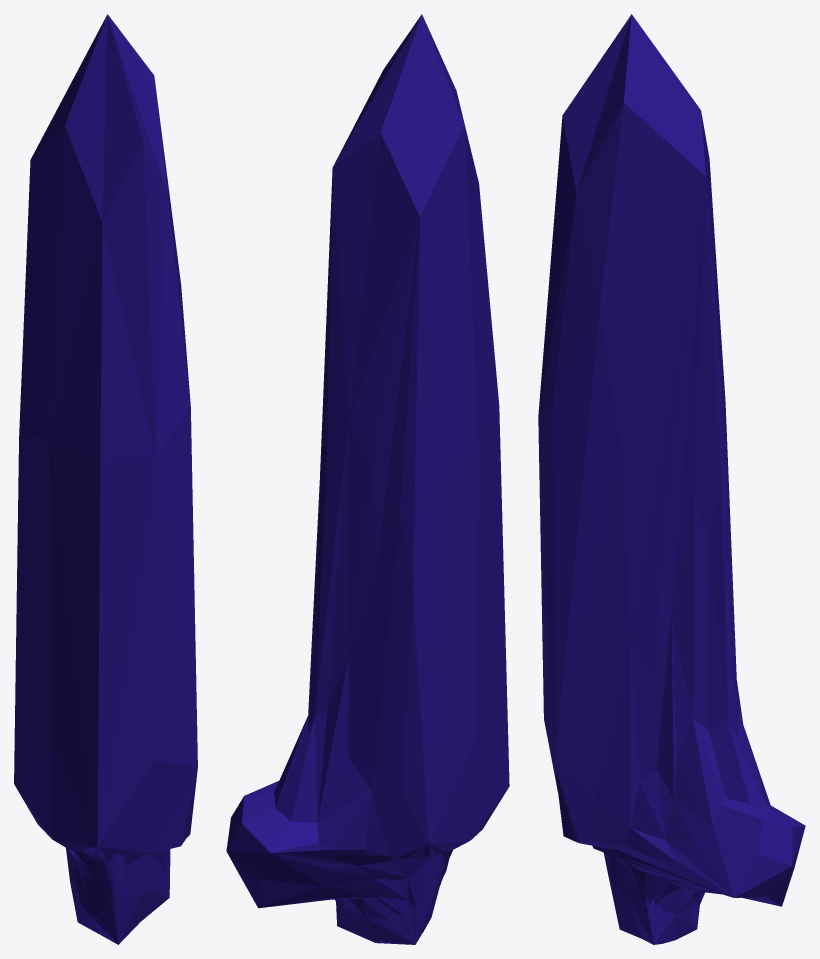
3 views of the same model, side by side, from view 1: azimuth 30°, elevation 25°; view 2: azimuth 150°, elevation 25°; view 3: azimuth 270°, elevation 25° (orthographic).
Parts seen in each view (by area): view 1: 685_Cube.2751; view 2: 685_Cube.2751; view 3: 685_Cube.2751.
Boxes of the visible parts, x1,y1,x2,y2 form: 685_Cube.2751: [14, 14, 197, 944]; 685_Cube.2751: [226, 14, 509, 944]; 685_Cube.2751: [538, 14, 805, 944].
Size of the model in its own units: 3.04 by 13.56 by 3.59.
